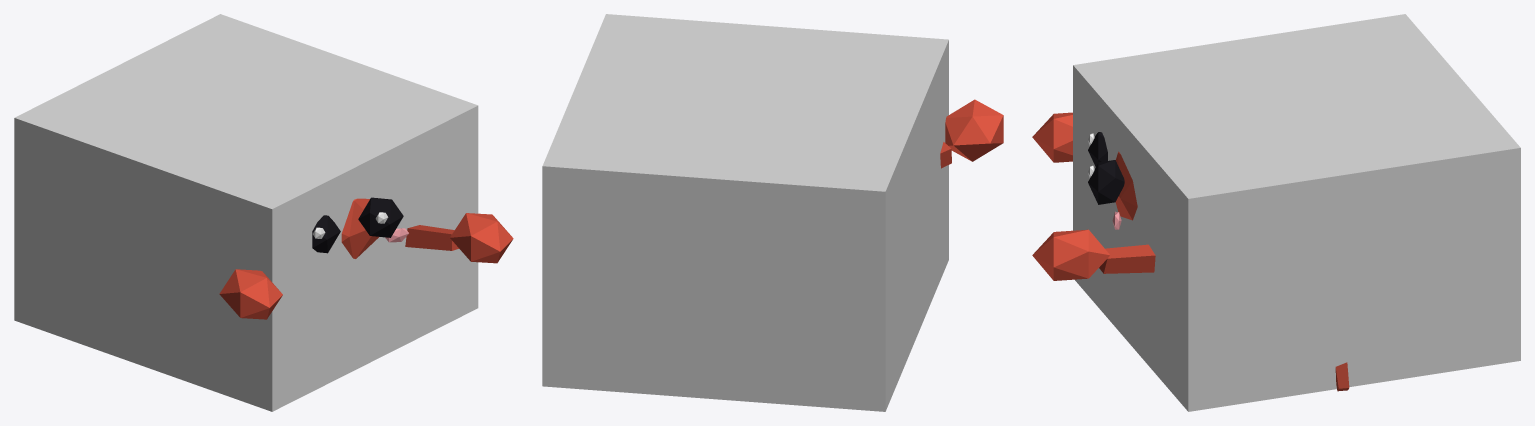
The model's file is plains_pet5.fbx.
3 renders of one model, left to right at view 1: azimuth 30°, elevation 25°; view 2: azimuth 150°, elevation 25°; view 3: azimuth 270°, elevation 25°, orthographic. The views are drawn at different scales.
Parts seen in each view (by area): view 1: Root__0.00_0.42_-0.16__1.23_0.86_1.29, Body__Root__0.00_0.39_0.00, ArmL__Body__-0.32_0.42_-0.28, ArmR__Body__0.32_0.42_-0.28; view 2: Root__0.00_0.42_-0.16__1.23_0.86_1.29, ArmR__Body__0.32_0.42_-0.28; view 3: Root__0.00_0.42_-0.16__1.23_0.86_1.29, ArmL__Body__-0.32_0.42_-0.28, Body__Root__0.00_0.39_0.00, ArmR__Body__0.32_0.42_-0.28.
Part boxes in pixels (left/top/right/bottom): Root__0.00_0.42_-0.16__1.23_0.86_1.29: left=14, top=14, right=478, bottom=411; Body__Root__0.00_0.39_0.00: left=312, top=197, right=408, bottom=258; ArmL__Body__-0.32_0.42_-0.28: left=405, top=213, right=513, bottom=263; ArmR__Body__0.32_0.42_-0.28: left=219, top=269, right=282, bottom=319; Root__0.00_0.42_-0.16__1.23_0.86_1.29: left=542, top=14, right=948, bottom=411; ArmR__Body__0.32_0.42_-0.28: left=940, top=99, right=1003, bottom=168; Root__0.00_0.42_-0.16__1.23_0.86_1.29: left=1073, top=14, right=1520, bottom=411; ArmL__Body__-0.32_0.42_-0.28: left=1032, top=229, right=1155, bottom=280; Body__Root__0.00_0.39_0.00: left=1088, top=132, right=1349, bottom=391; ArmR__Body__0.32_0.42_-0.28: left=1032, top=112, right=1072, bottom=162.
Bounding box in the file's own units: 44.58 × 23.94 × 49.77.
1 material, 1 textured.
